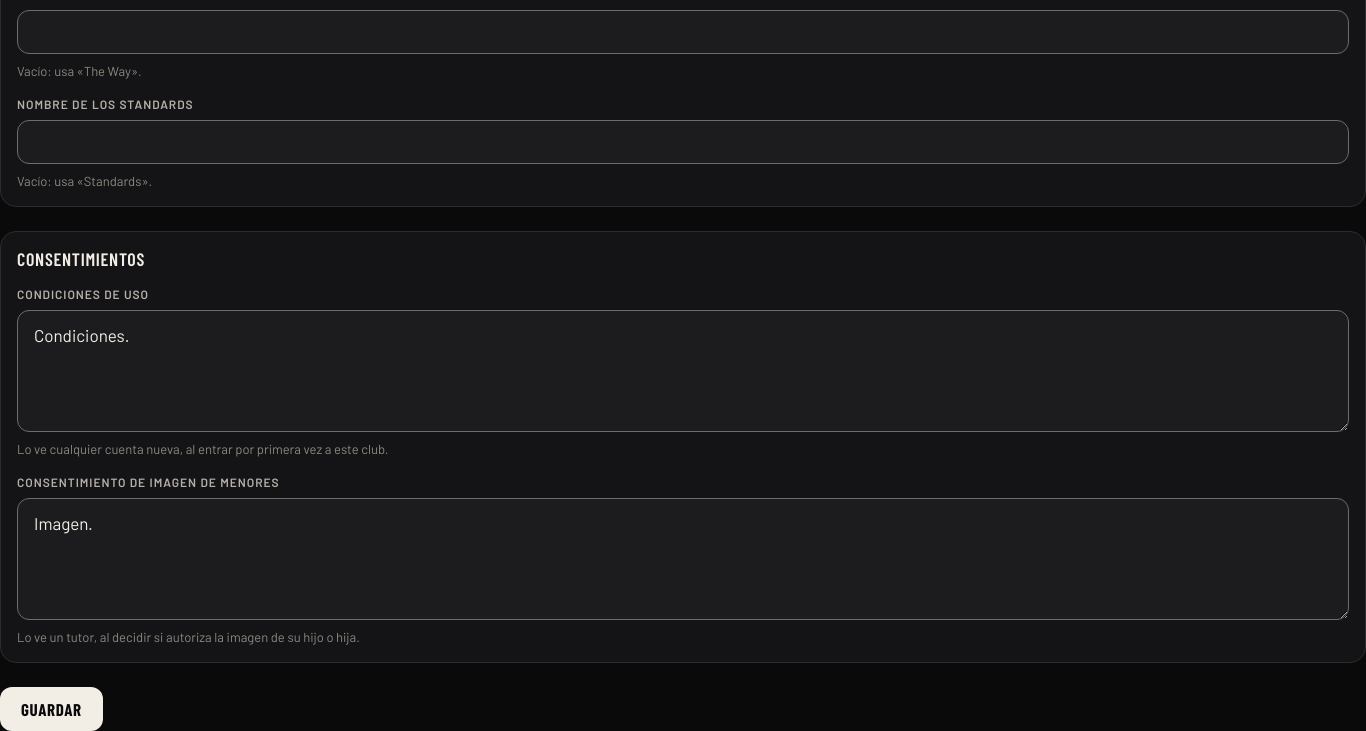
Scenario: ClubScreen › cambiar un campo después de guardar vuelve a enseñar «Guardar»
The width and height of the screenshot is (1366, 731).
(page scrolled)
Step 1. Click the button "Guardar" → (51, 709), box [0,687,103,730]
(page scrolled)
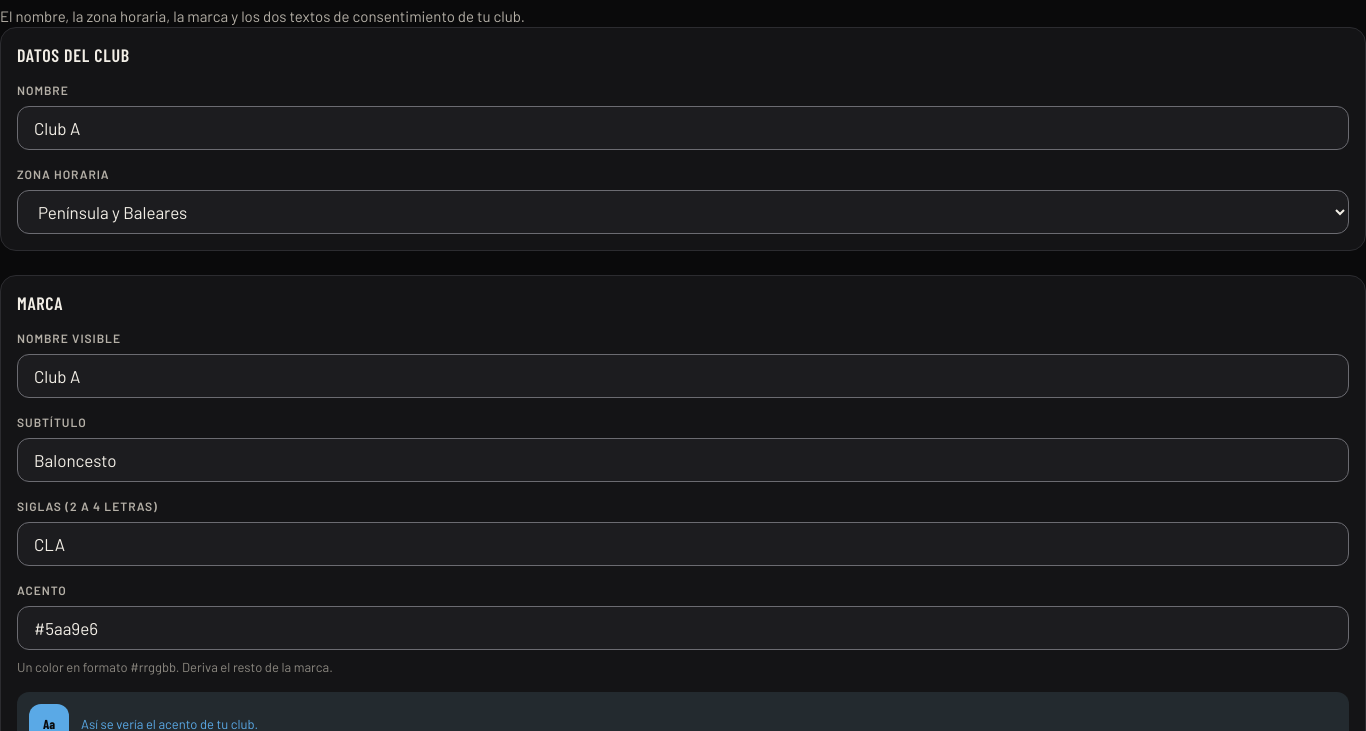
Step 2. Replace the text in the field labelled "Nombre" with "Otro nombre" → (683, 128), box [17,106,1349,150]
(page scrolled)
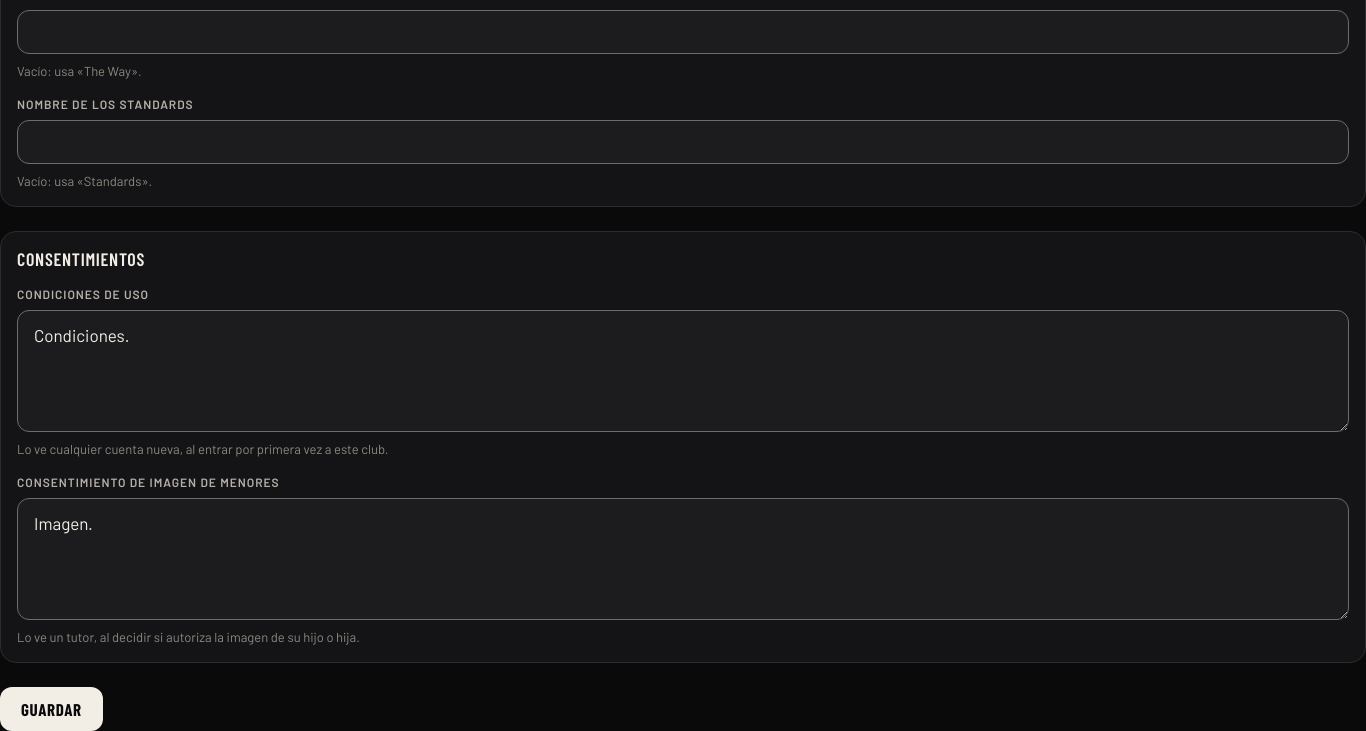
Now the button "Guardar" is shown, box [0,687,103,730]
